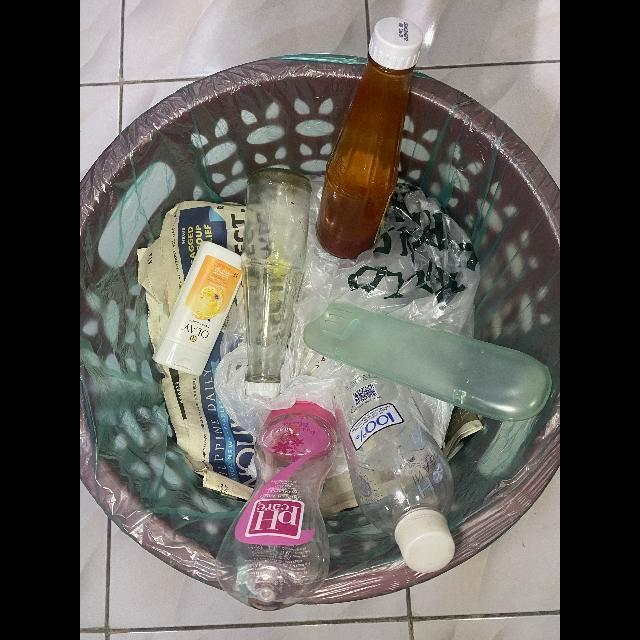glass_bottle: (315, 16, 424, 261), (242, 167, 313, 387)
paper: (138, 201, 257, 505)
plastic_bag: (213, 175, 481, 438)
plastic_bottle: (331, 368, 457, 574), (216, 401, 338, 610), (152, 238, 243, 375)
plastic_container: (301, 302, 551, 422)
